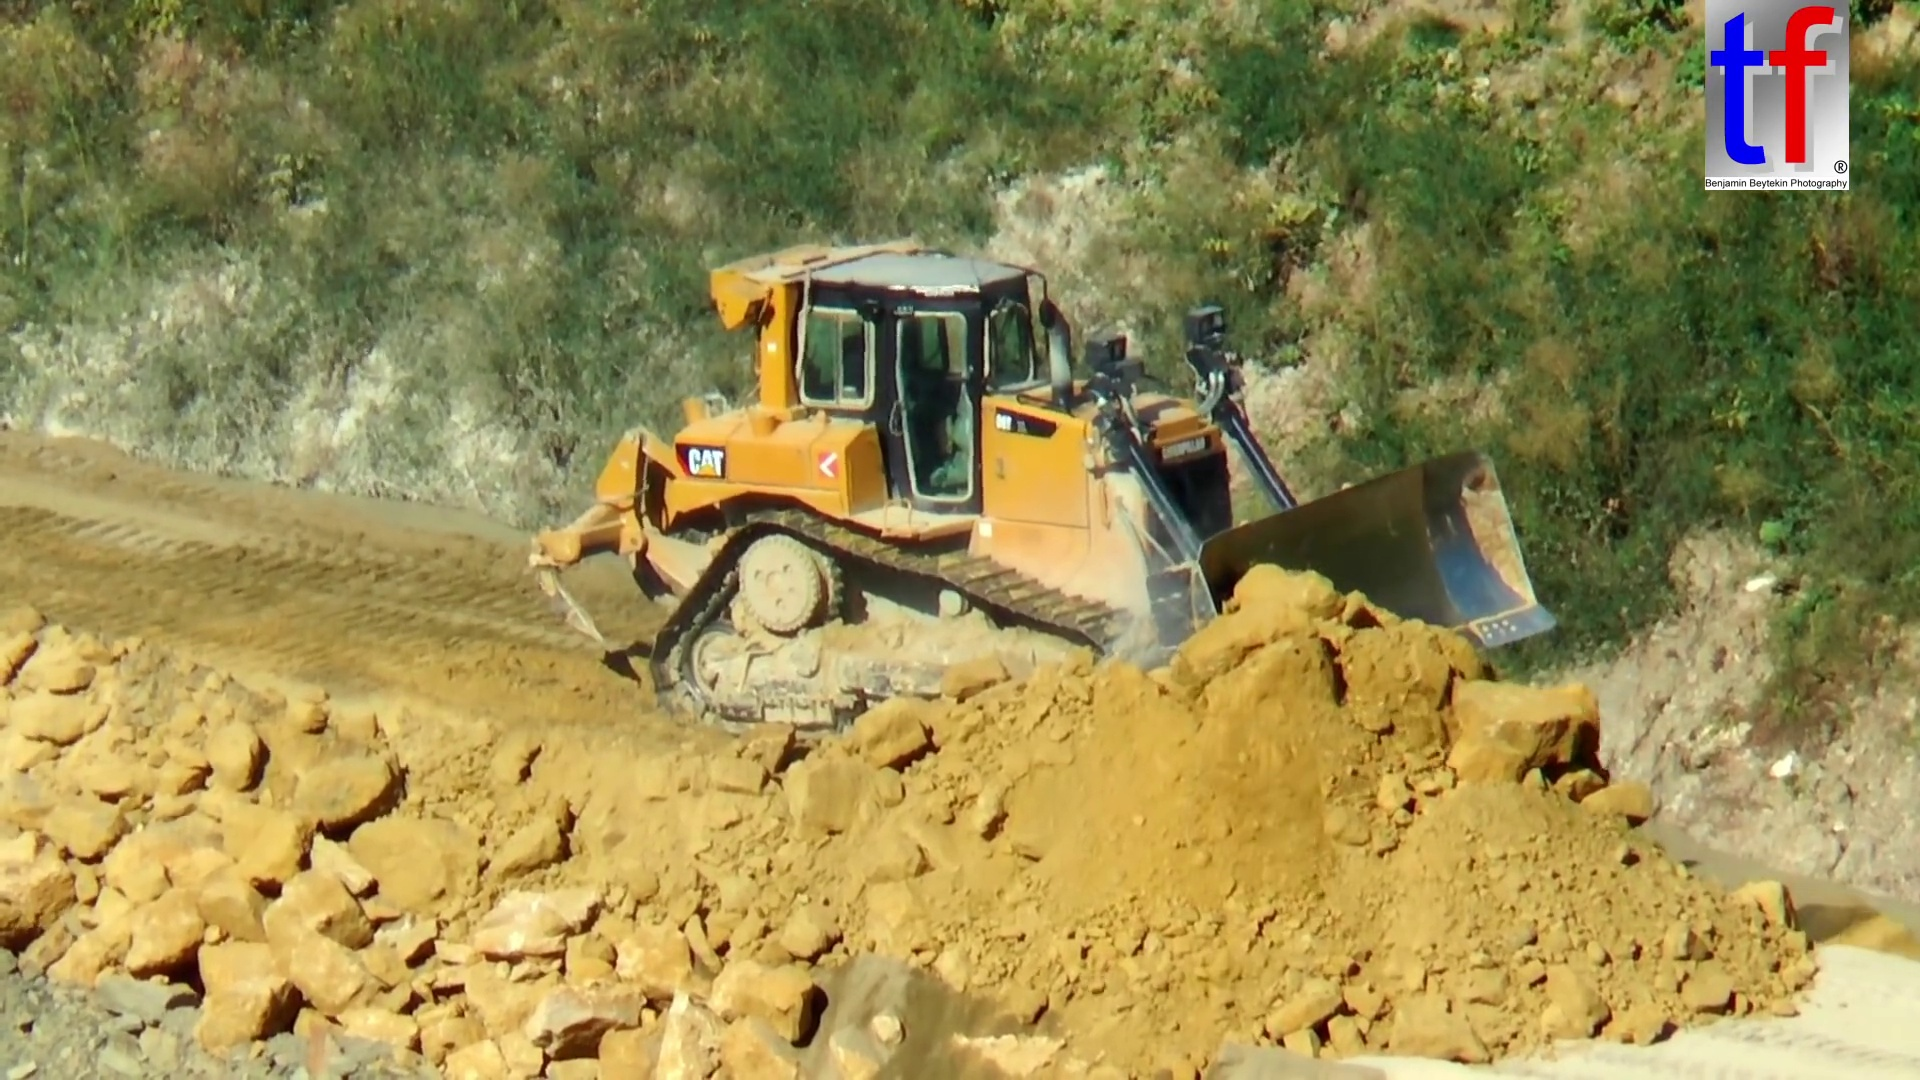bulldozer: (524, 243, 1557, 791)
